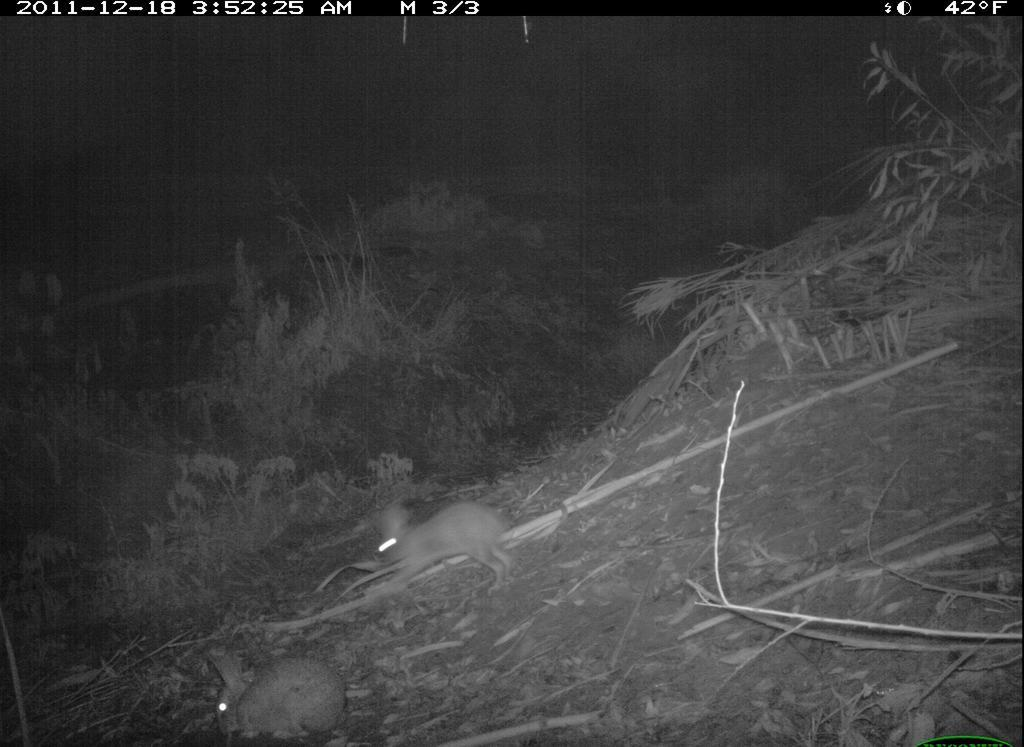rabbit: (358, 497, 530, 607), (203, 639, 355, 744)
